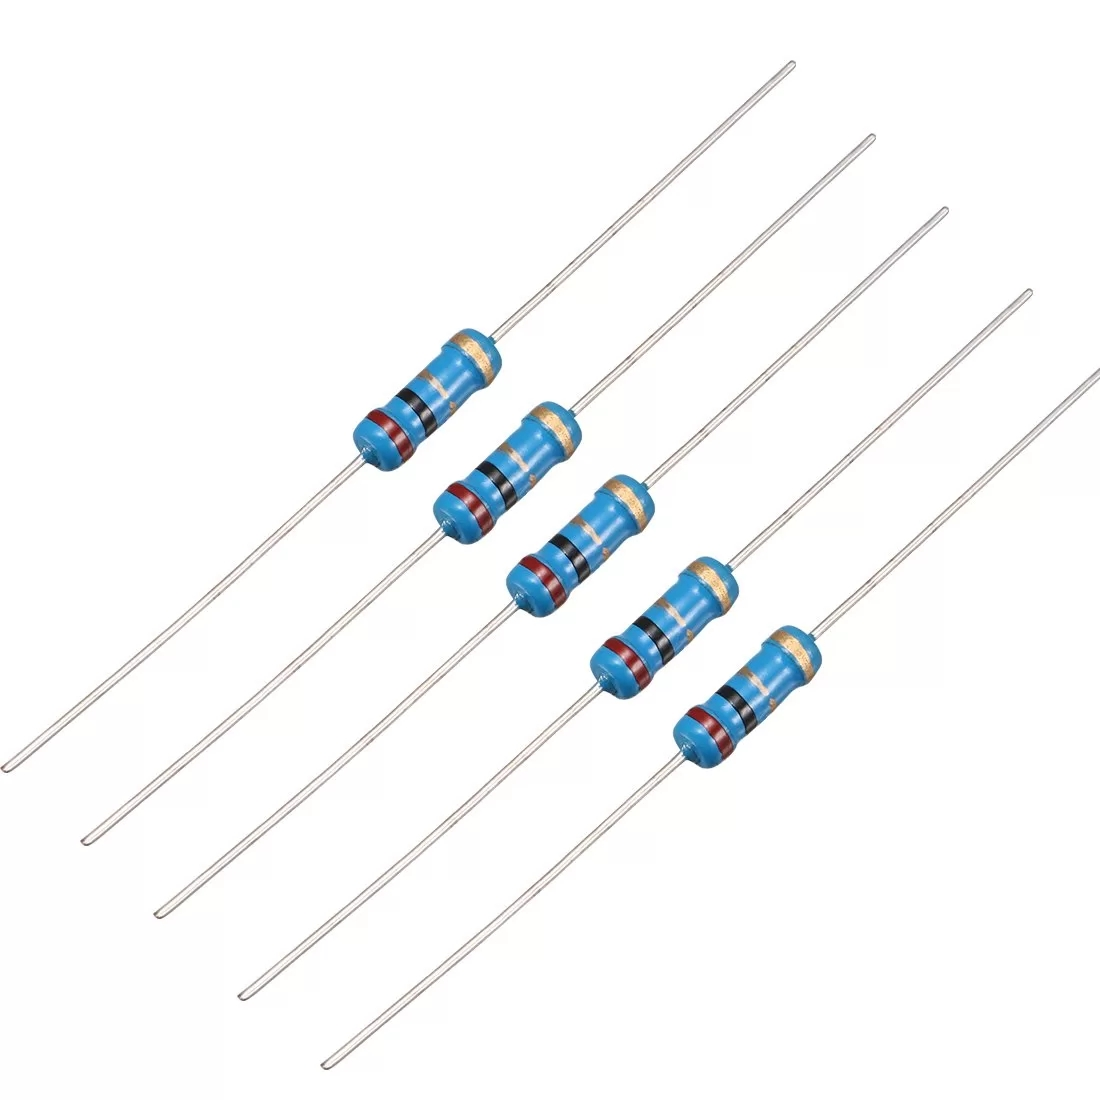resistor: (332, 301, 525, 491), (412, 378, 605, 568), (487, 456, 680, 646), (569, 532, 762, 722), (651, 605, 844, 795)
